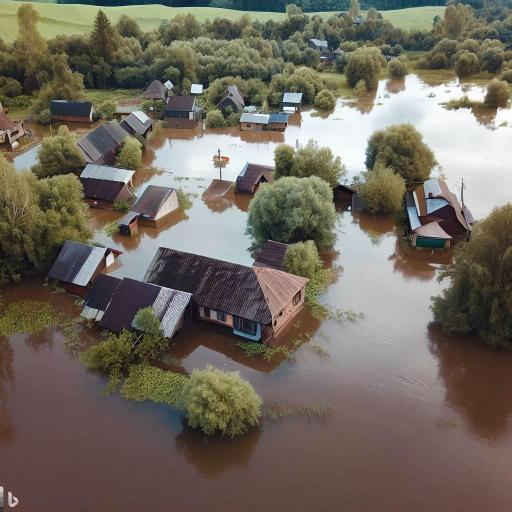flood: (0, 212, 512, 512), (88, 74, 512, 280), (12, 144, 40, 170), (51, 122, 95, 135), (24, 122, 50, 142)
house: (138, 246, 310, 342), (88, 276, 190, 344), (46, 240, 116, 294), (418, 177, 472, 238), (127, 183, 183, 231), (76, 120, 133, 167), (80, 160, 134, 206), (232, 160, 274, 200), (407, 220, 454, 252), (47, 95, 93, 124), (161, 92, 200, 126), (119, 108, 155, 142), (0, 101, 24, 152), (218, 82, 246, 124), (242, 106, 266, 134), (284, 91, 304, 111), (269, 112, 287, 132)
